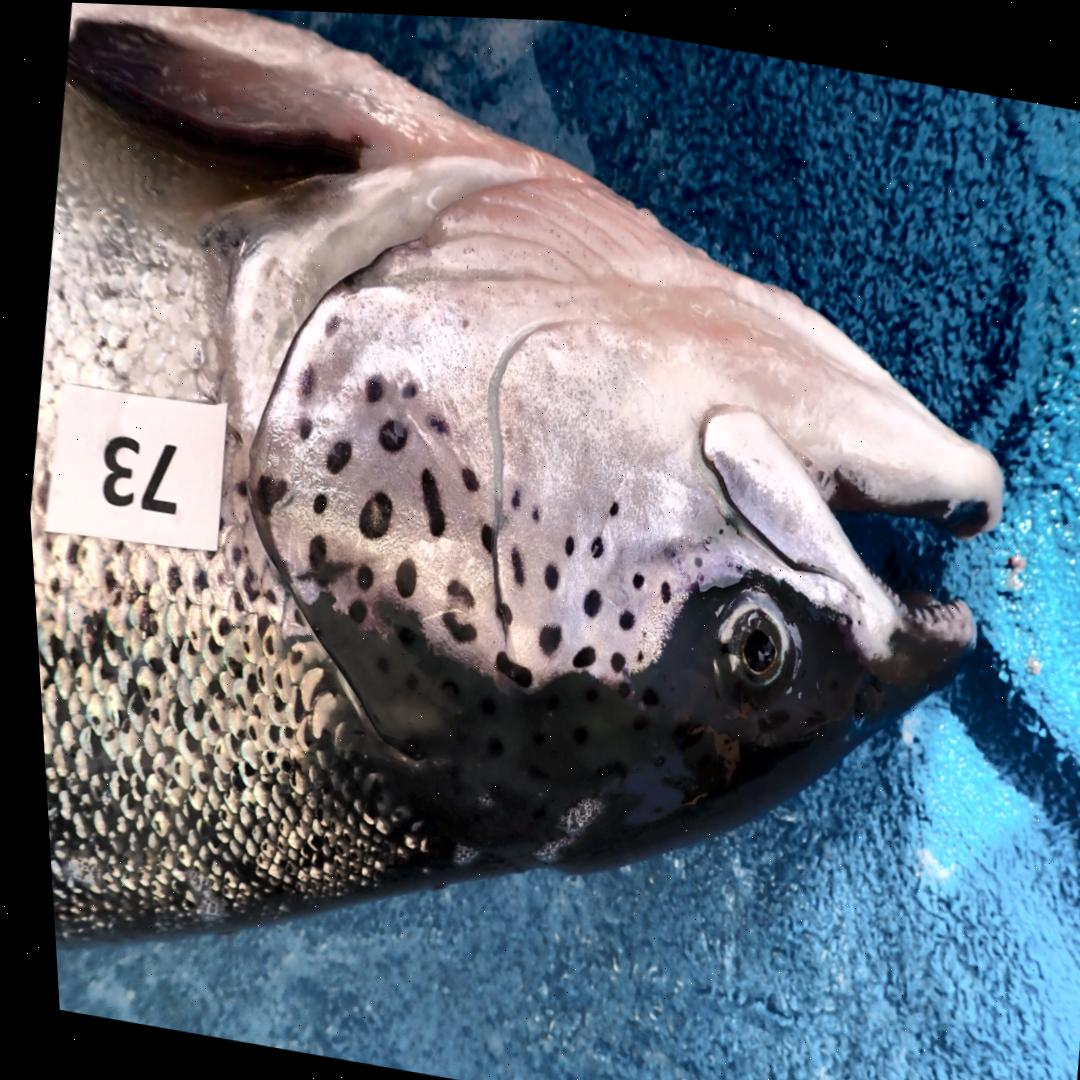spot: (413, 465, 438, 533), (350, 489, 385, 536), (486, 647, 522, 683), (249, 472, 280, 511), (433, 607, 467, 639), (372, 416, 401, 449), (386, 554, 409, 594), (319, 437, 345, 471), (438, 576, 466, 605), (529, 620, 552, 650), (300, 530, 318, 568), (359, 371, 379, 399), (563, 641, 587, 664), (574, 583, 593, 611), (502, 544, 516, 582), (292, 362, 309, 393), (453, 463, 472, 488), (419, 410, 442, 430), (348, 561, 365, 587), (535, 558, 551, 585), (340, 597, 358, 620), (387, 623, 407, 642), (472, 519, 485, 548), (291, 413, 306, 438), (319, 313, 337, 332), (396, 376, 412, 396), (601, 647, 616, 667), (610, 605, 625, 625), (306, 490, 320, 511), (652, 575, 663, 598), (583, 531, 595, 552), (492, 598, 503, 619), (556, 530, 567, 550), (503, 484, 514, 504), (624, 567, 636, 584), (600, 496, 612, 511), (524, 500, 533, 517), (656, 541, 667, 551), (687, 550, 694, 561), (629, 645, 635, 656), (728, 559, 734, 565), (711, 522, 716, 527)
